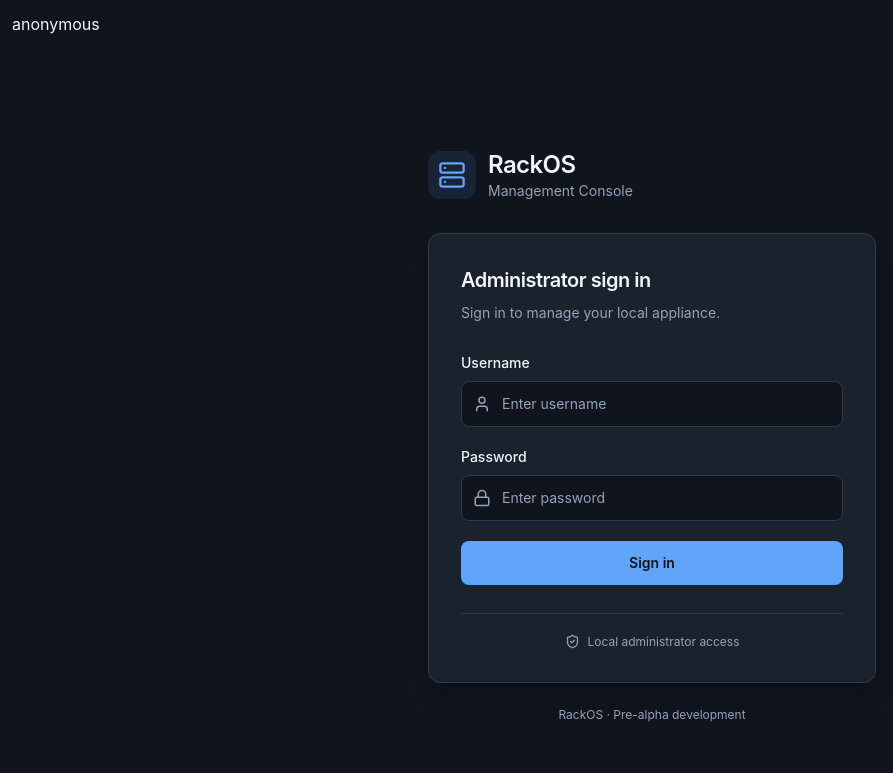
Administrator login page › allows another submission after a rejected login
The image size is (893, 773).
Expected: the heading "Administrator sign in" is shown, [461,268,651,292]
In the field labelled "Username": x=652, y=404 [461,381,843,427], type "admin"
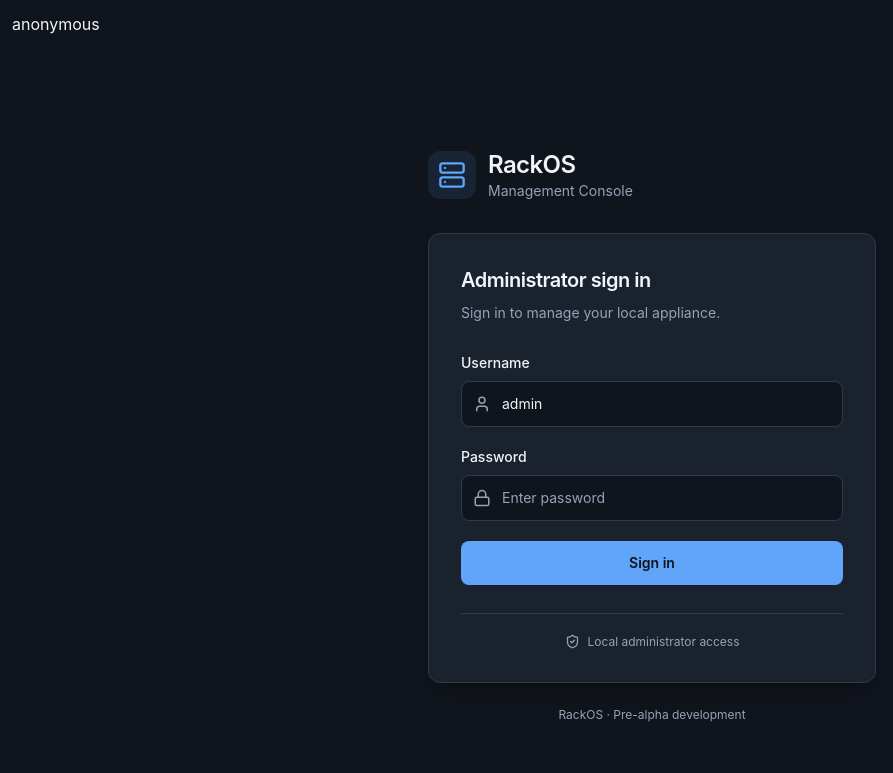
In the password field labelled "Password": x=652, y=498 [461,475,843,521], type "synthetic-test-password"
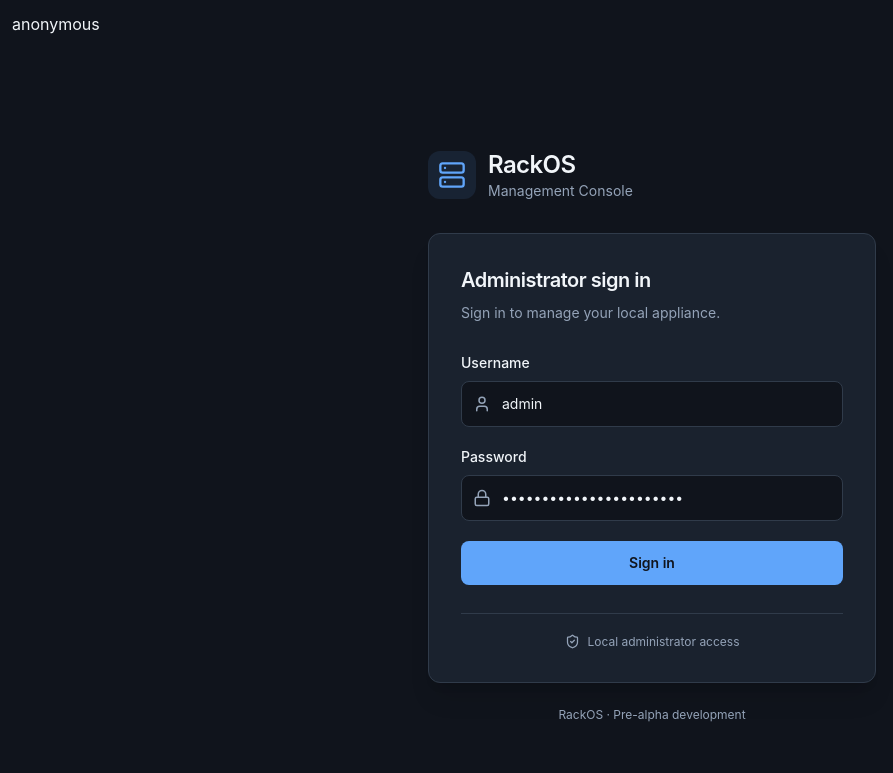
Submit the form named "Administrator sign in", box [461,353,843,585]
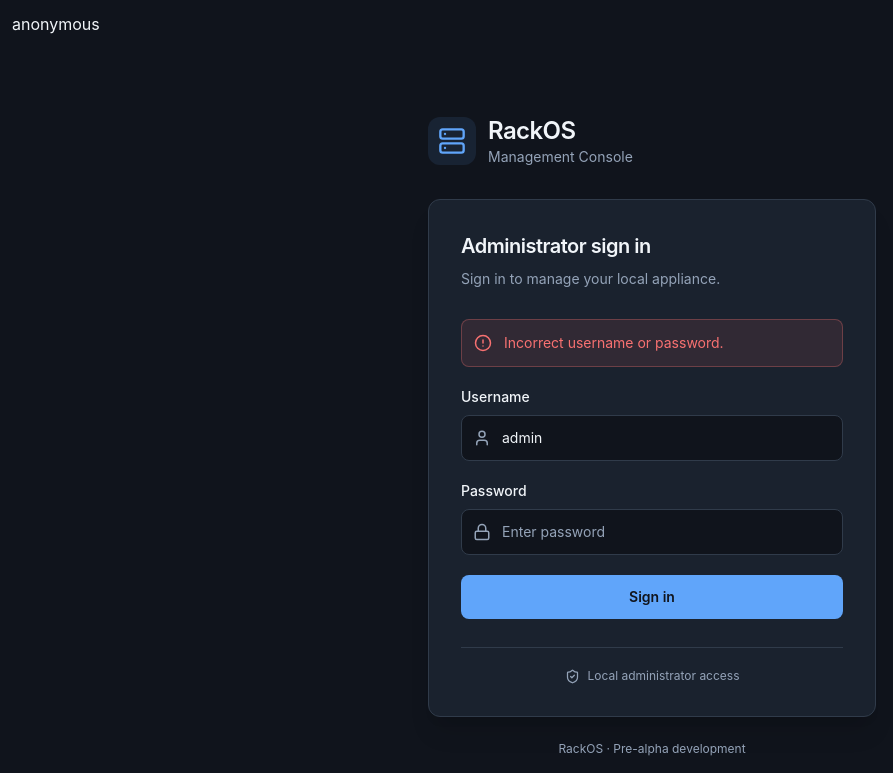
Expected: the message "Incorrect username or password." is shown, [461,318,843,367]
In the password field labelled "Password": x=652, y=532 [461,509,843,555], type "synthetic-corrected-password"
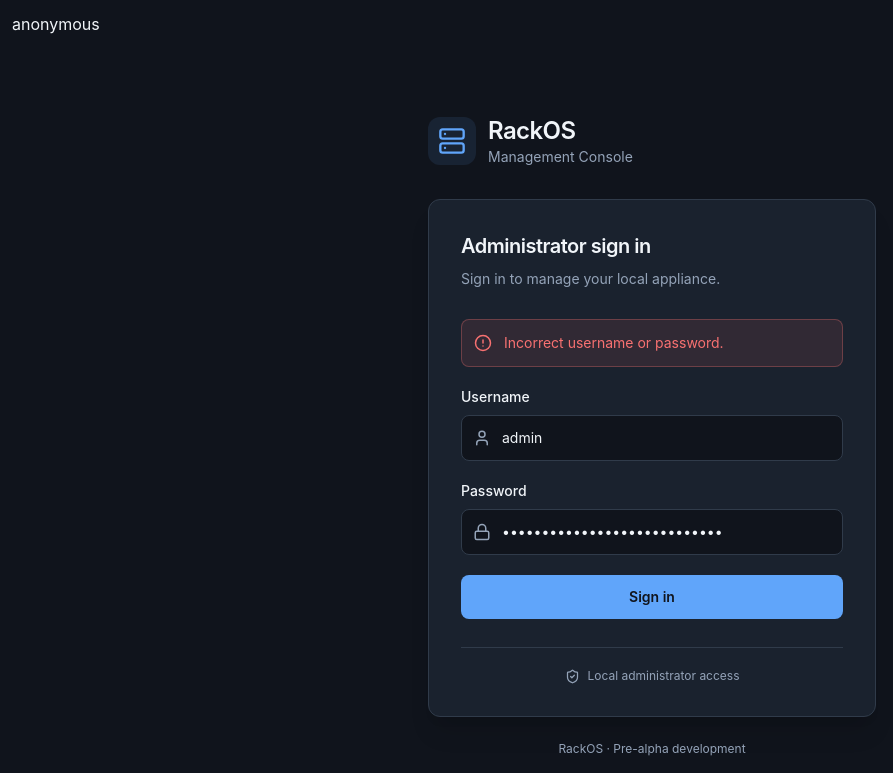
Submit the form named "Administrator sign in", box [461,318,843,619]
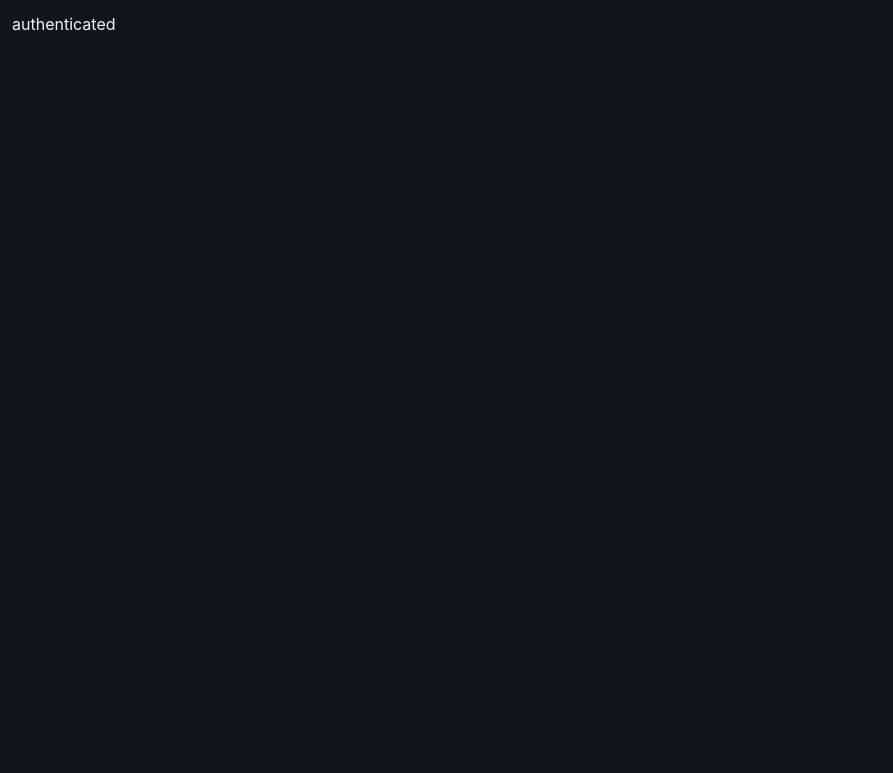
Expected: the text with test id "auth-state" reads "authenticated", [12,14,116,34]
